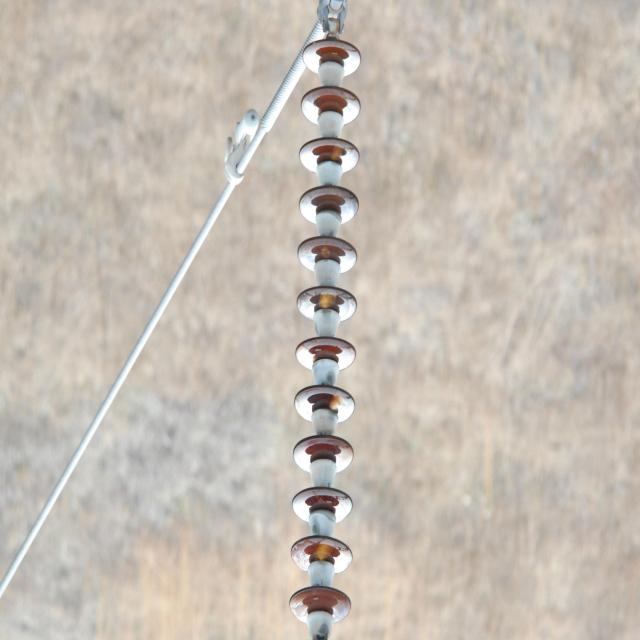insulator: (290, 40, 360, 624)
